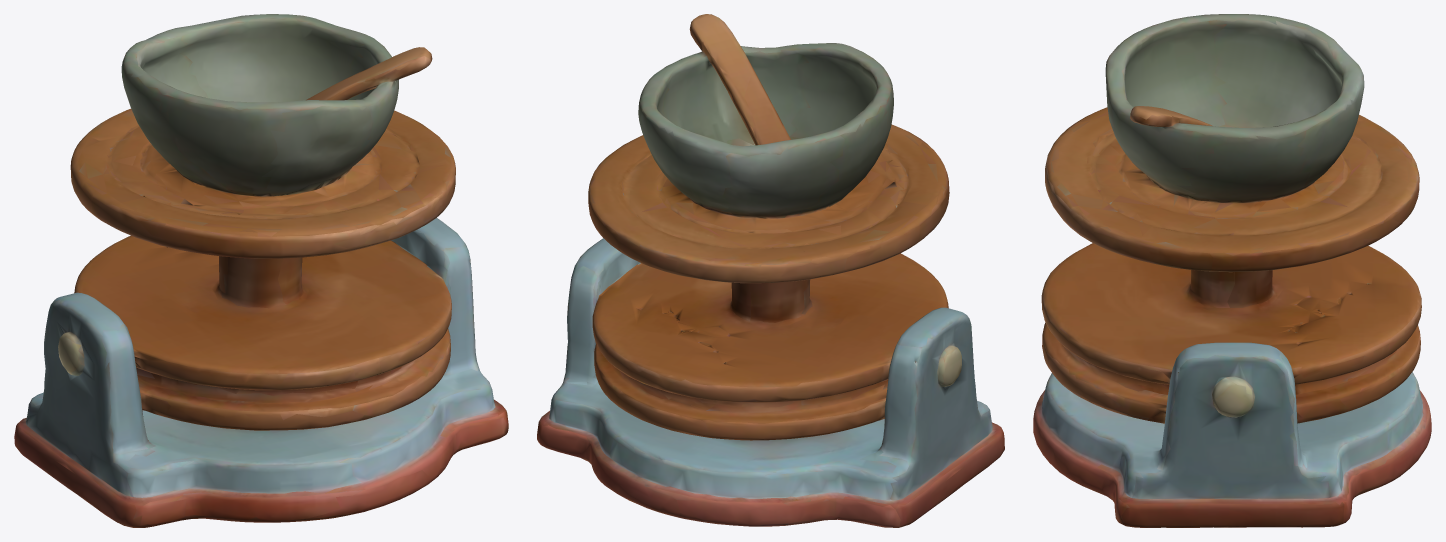
Rendered from sc-turntable.glb.
3 renders of one model, left to right at view 1: azimuth 30°, elevation 25°; view 2: azimuth 150°, elevation 25°; view 3: azimuth 270°, elevation 25°, orthographic. The views are drawn at different scales.
Parts seen in each view (by area): view 1: geometry_0; view 2: geometry_0; view 3: geometry_0.
Part boxes in pixels (left/top/right/bottom): geometry_0: left=14, top=14, right=508, bottom=527; geometry_0: left=537, top=14, right=1004, bottom=527; geometry_0: left=1033, top=14, right=1431, bottom=527.
Size of the model in its own units: 1 by 0.9847 by 0.9171.
1 material, 1 textured.
